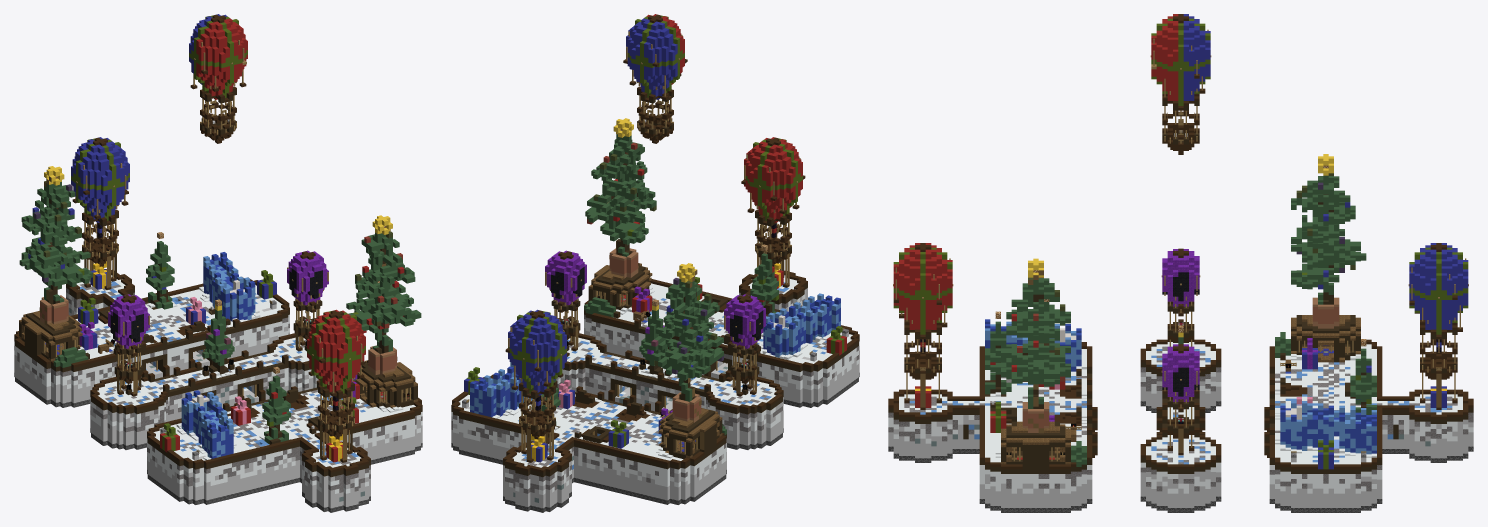
The model's file is minecraft.obj.
The picture shows the model from 3 angles, left to right: view 1: azimuth 30°, elevation 25°; view 2: azimuth 150°, elevation 25°; view 3: azimuth 270°, elevation 25°; orthographic projection. The views are drawn at different scales.
Bounding box in the file's own units: 58 × 88.5 × 109.
